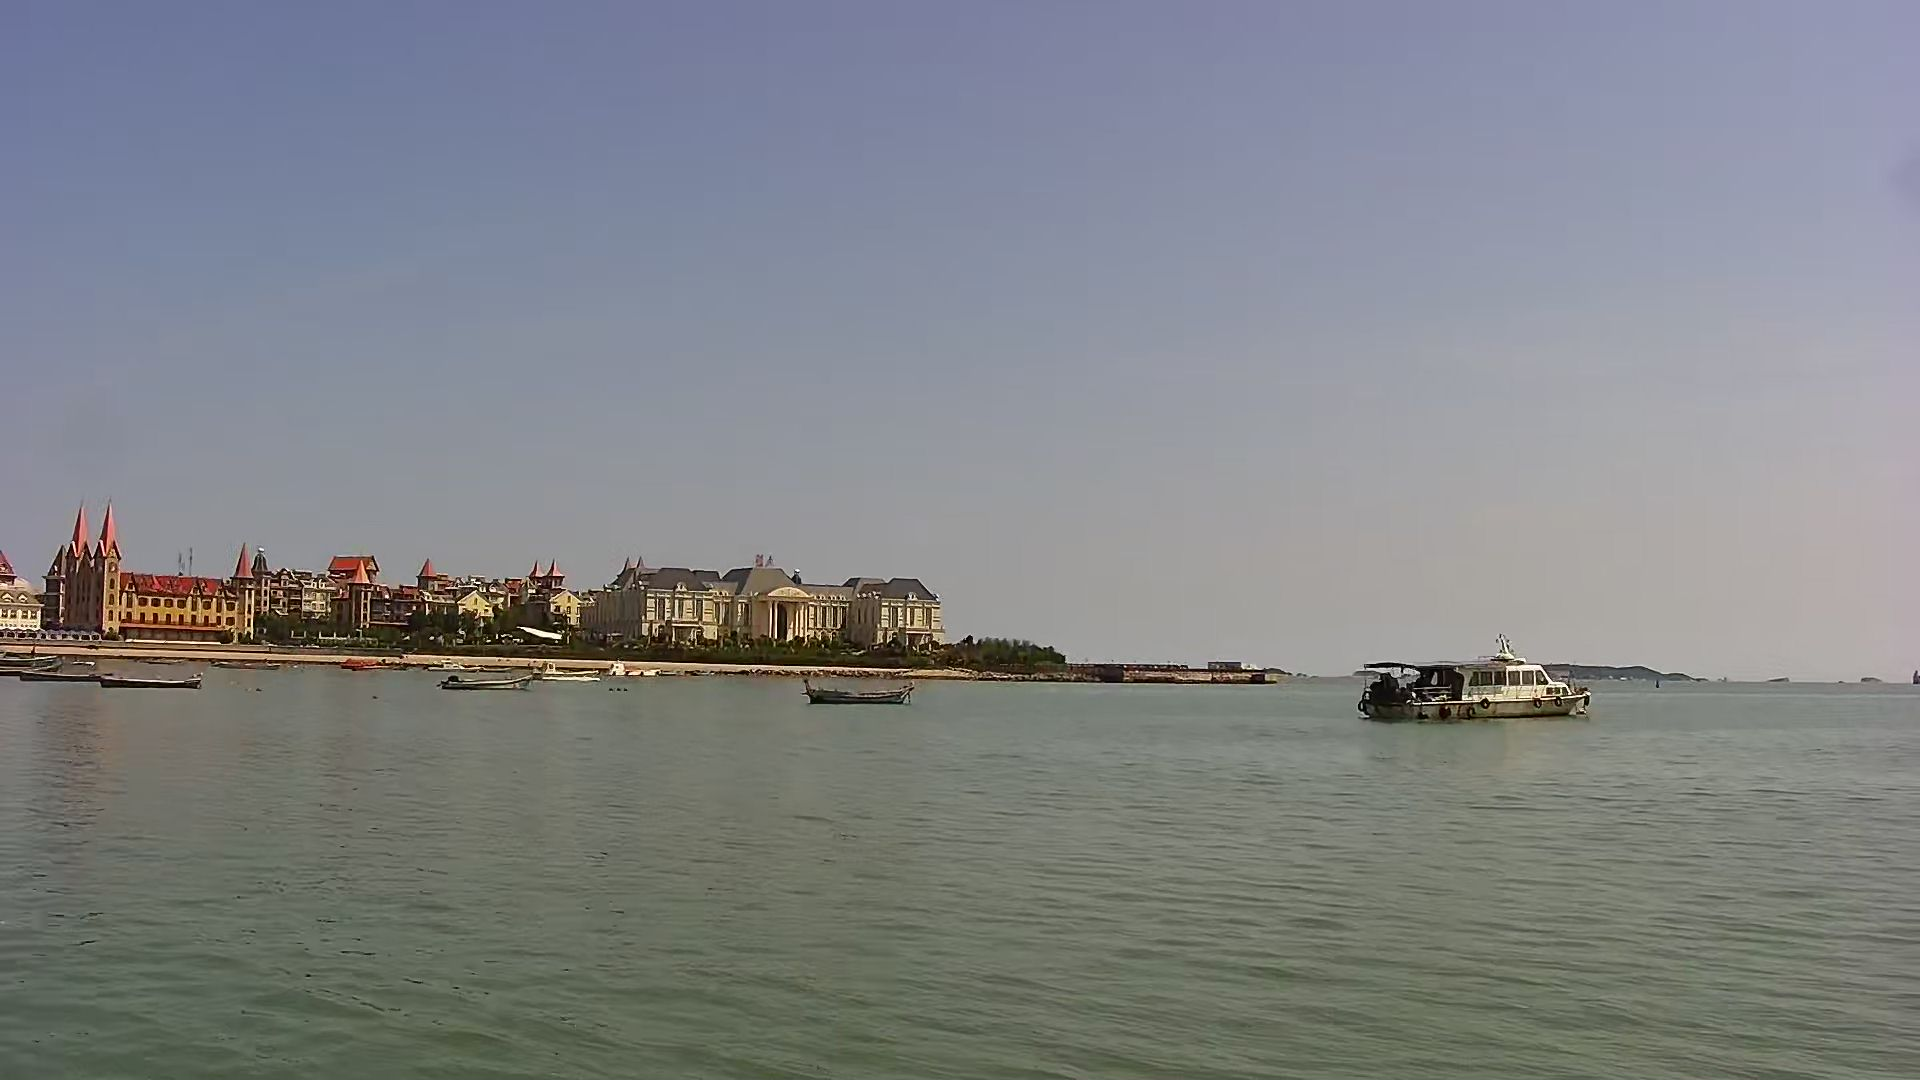boat: (800, 674, 918, 705), (12, 661, 113, 688), (92, 669, 206, 690), (436, 667, 533, 691), (527, 661, 599, 682)
ship: (1356, 632, 1596, 723)
